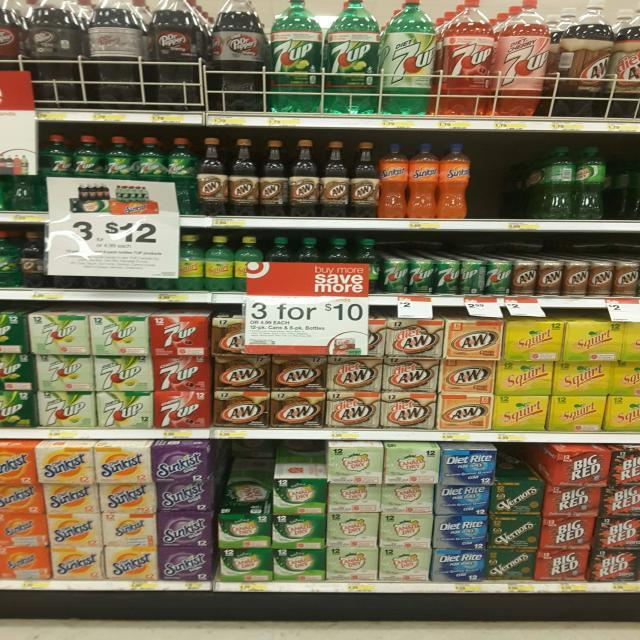empty: (474, 146, 516, 228)
